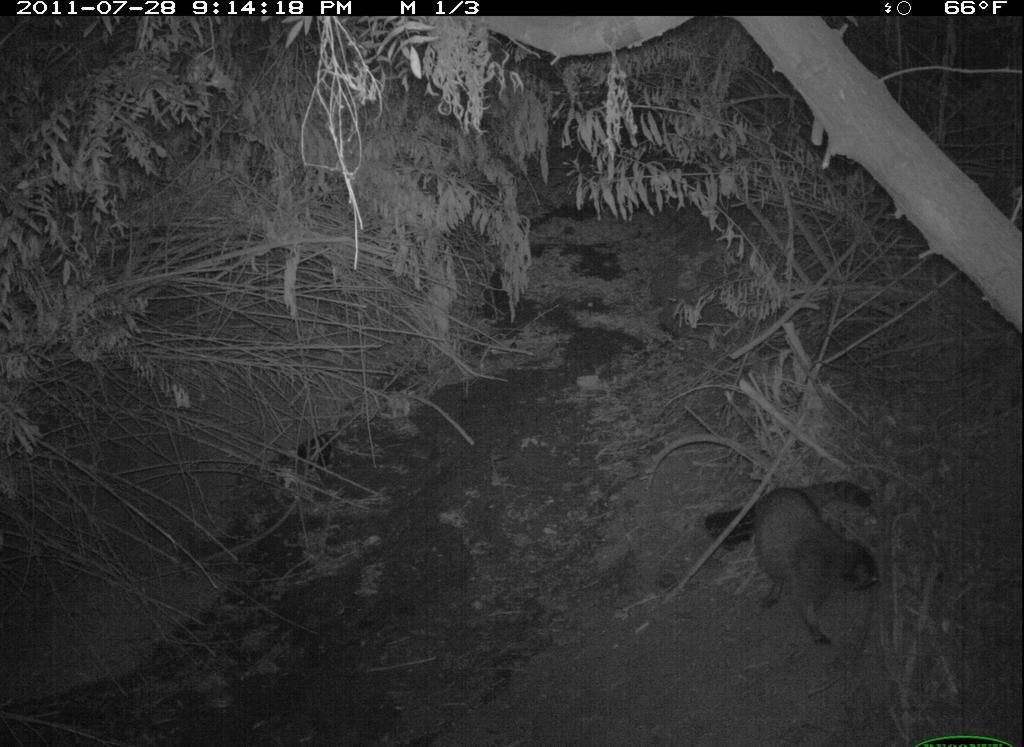raccoon: (720, 452, 900, 657)
